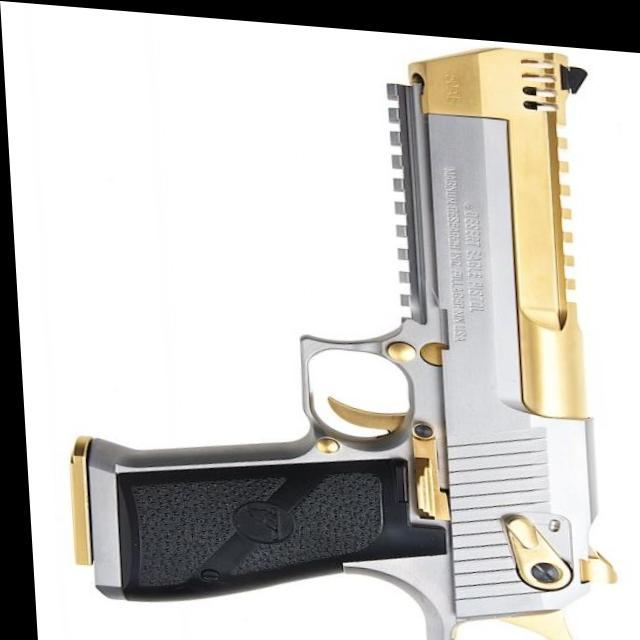handgun: (30, 7, 627, 640)
